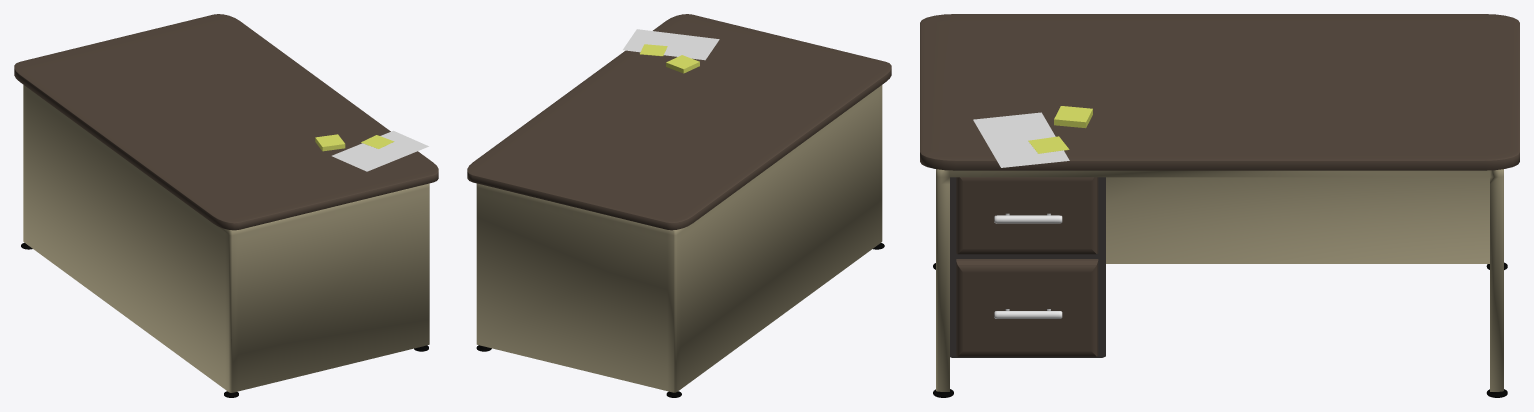
File: Desk.gltf
3 renders of one model, left to right at view 1: azimuth 30°, elevation 25°; view 2: azimuth 150°, elevation 25°; view 3: azimuth 270°, elevation 25°, orthographic. The views are drawn at different scales.
Parts seen in each view (by area): view 1: Desk Main, Top, Paper, PostIts; view 2: Desk Main, Top, Paper, PostIts; view 3: Top, Desk Main, Drawers, Paper, Handles, PostIts.
Boxes of the visible parts, x1=… form: Desk Main: x1=23, y1=85, x2=429, y2=392; Top: x1=14, y1=14, x2=438, y2=230; Paper: x1=332, y1=130, x2=428, y2=171; PostIts: x1=315, y1=134, x2=345, y2=151; Desk Main: x1=476, y1=85, x2=882, y2=392; Top: x1=467, y1=14, x2=891, y2=230; Paper: x1=623, y1=29, x2=719, y2=60; PostIts: x1=666, y1=55, x2=699, y2=73; Top: x1=920, y1=14, x2=1519, y2=170; Desk Main: x1=936, y1=169, x2=1503, y2=391; Drawers: x1=950, y1=177, x2=1105, y2=357; Paper: x1=973, y1=112, x2=1069, y2=167; Handles: x1=994, y1=213, x2=1062, y2=318; PostIts: x1=1054, y1=106, x2=1092, y2=128.
Size of the model in its own units: 2.33 by 1.75 by 3.8.
